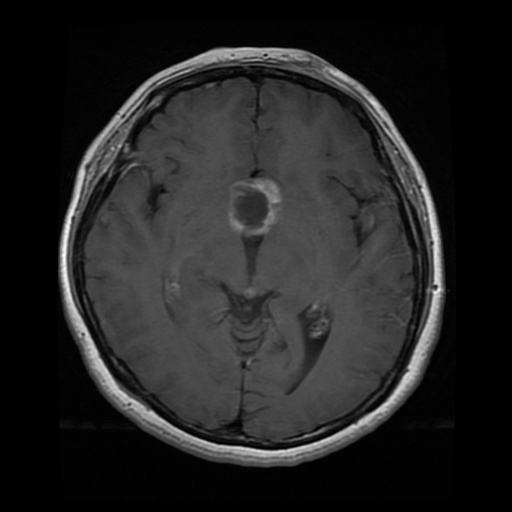pituitary: (228, 178, 283, 235)
